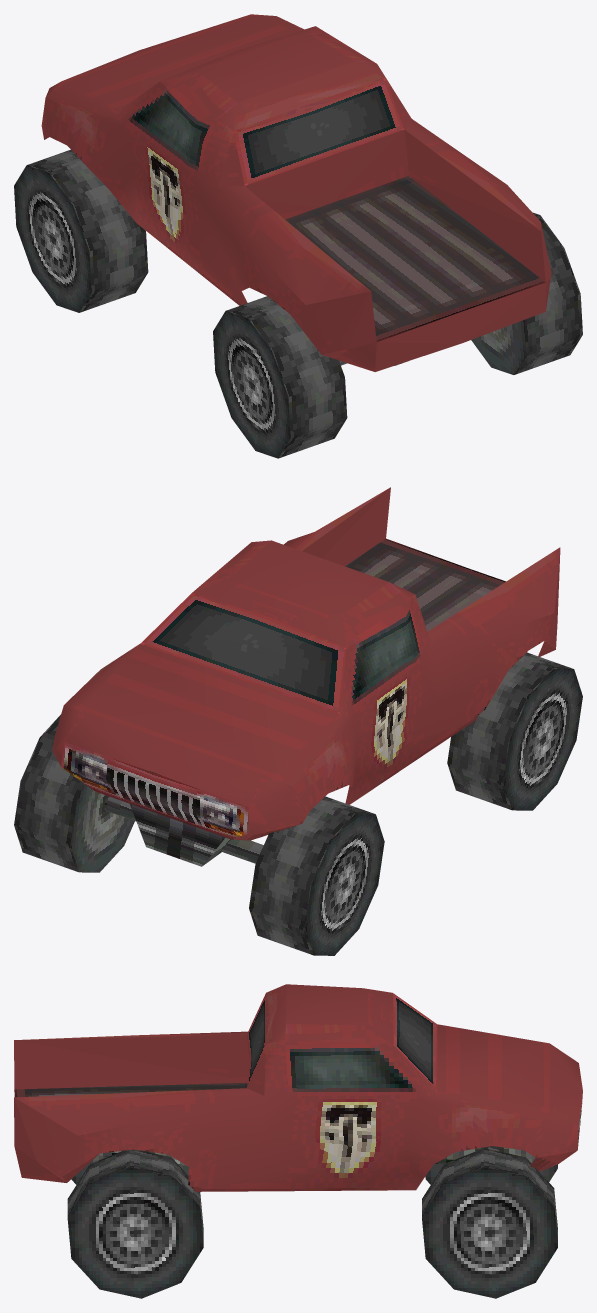
The model's file is ps2_save-icons_smugglers-run.glb.
The picture shows the model from 3 angles, top to bottom: view 1: azimuth 30°, elevation 25°; view 2: azimuth 150°, elevation 25°; view 3: azimuth 270°, elevation 25°; orthographic projection. The views are drawn at different scales.
Parts seen in each view (by area): view 1: Smuggler’s Run; view 2: Smuggler’s Run; view 3: Smuggler’s Run.
Boxes of the visible parts, x1,y1,x2,y2 form: Smuggler’s Run: (14, 14, 582, 458); Smuggler’s Run: (14, 487, 582, 955); Smuggler’s Run: (14, 984, 582, 1298).
Size of the model in its own units: 2.48 by 2.22 by 4.48.
1 material, 1 textured.
